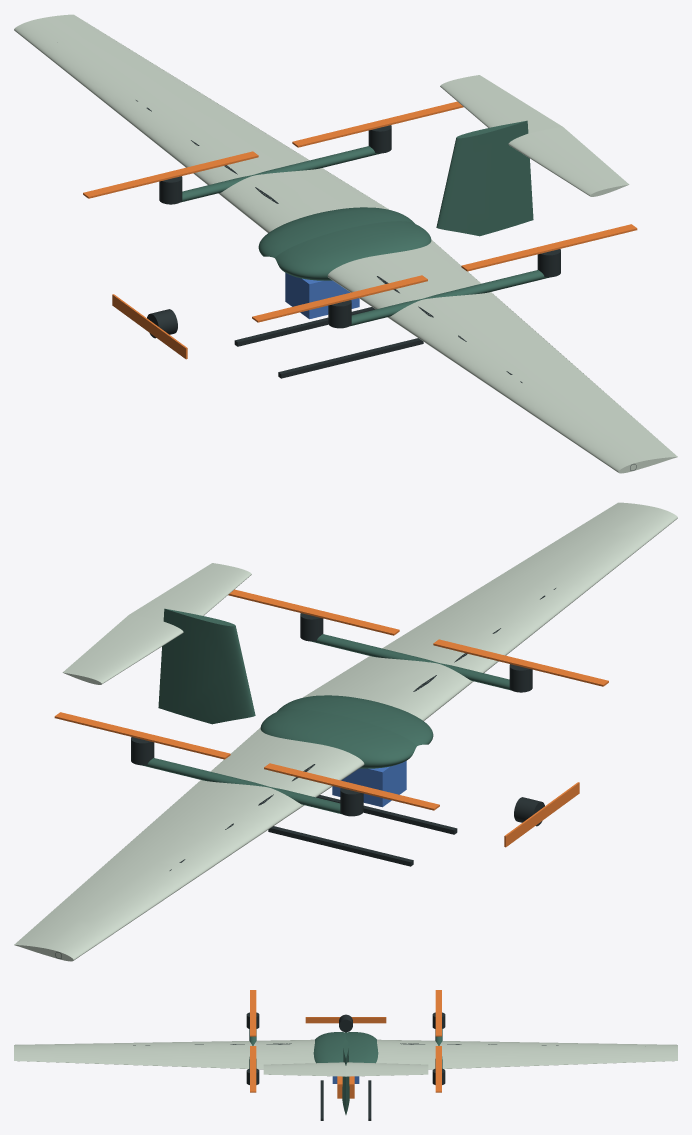
File: control-07-internal.glb
The picture shows the model from 3 angles, top to bottom: view 1: azimuth 30°, elevation 25°; view 2: azimuth 150°, elevation 25°; view 3: azimuth 270°, elevation 25°; orthographic projection. The views are drawn at different scales.
Visible parts, largest first — view 1: wing-1, wing1, fin, root_fairing-1, tail-1, tail1, root_fairing1, boom_fairing-1, boom_fairing1, payload, prop_-1_700.0, prop_-1_200.0 (+5 smaller); view 2: wing1, wing-1, fin, root_fairing1, tail1, tail-1, root_fairing-1, boom_fairing1, boom_fairing-1, payload, prop_1_700.0, prop_1_200.0 (+5 smaller); view 3: wing-1, wing1, tail-1, tail1, root_fairing-1, root_fairing1, cruise_prop, fin, prop_-1_200.0, prop_-1_700.0, prop_1_200.0, prop_1_700.0 (+1 smaller).
Part boxes in pixels (x1,y1,x2,y2): wing-1: (327, 239, 677, 473); wing1: (14, 14, 389, 232); fin: (436, 120, 533, 236); root_fairing-1: (275, 221, 431, 280); tail-1: (508, 127, 629, 196); tail1: (440, 75, 562, 133); root_fairing1: (258, 207, 414, 257); boom_fairing-1: (350, 270, 549, 326); boom_fairing1: (180, 146, 381, 202); payload: (285, 273, 359, 319); prop_-1_700.0: (461, 224, 637, 271); prop_-1_200.0: (252, 275, 427, 322); wing1: (14, 727, 364, 961); wing-1: (302, 502, 677, 720); fin: (158, 608, 255, 724); root_fairing1: (260, 709, 416, 768); tail1: (62, 615, 183, 684); tail-1: (129, 563, 251, 621); root_fairing-1: (277, 695, 433, 745); boom_fairing1: (142, 758, 341, 814); boom_fairing-1: (310, 634, 511, 690); payload: (332, 761, 406, 807); prop_1_700.0: (54, 712, 230, 759); prop_1_200.0: (264, 763, 439, 810); wing-1: (14, 1039, 315, 1069); wing1: (376, 1039, 677, 1069); tail-1: (263, 1062, 345, 1076); tail1: (346, 1062, 428, 1076); root_fairing-1: (313, 1032, 345, 1063); root_fairing1: (346, 1032, 378, 1063); cruise_prop: (305, 1017, 386, 1023); fin: (342, 1039, 349, 1114); prop_-1_200.0: (250, 990, 256, 1036); prop_-1_700.0: (250, 1046, 256, 1092); prop_1_200.0: (435, 990, 441, 1036); prop_1_700.0: (435, 1046, 441, 1092).
Bounding box in the file's own units: 989 × 400 × 2500.
